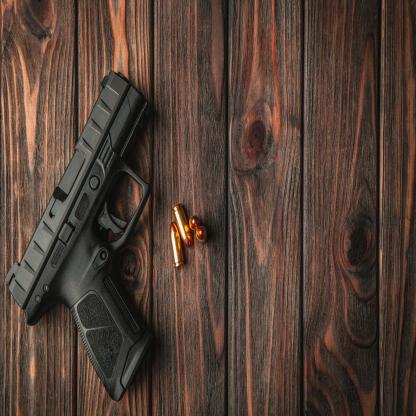handgun: (8, 71, 157, 397)
